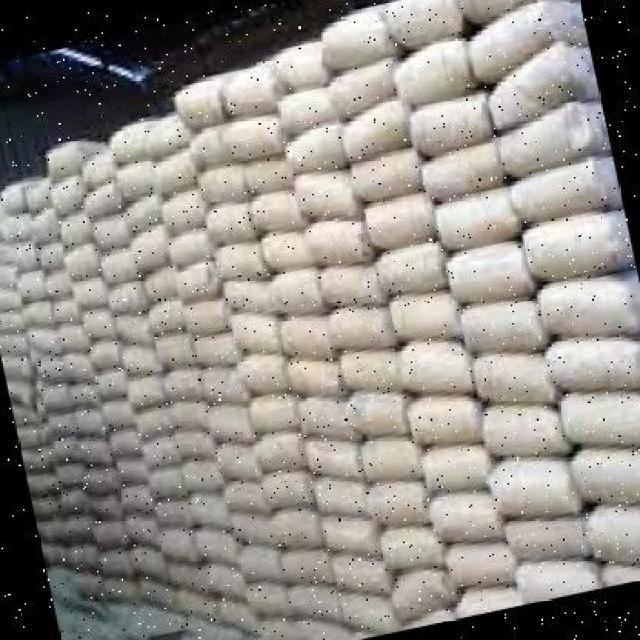gunny_bag: (463, 0, 588, 87), (485, 41, 601, 130), (506, 145, 623, 230), (495, 104, 610, 187), (525, 197, 635, 280), (541, 268, 640, 341), (393, 25, 478, 104), (463, 288, 547, 364), (430, 183, 523, 250), (409, 83, 495, 155), (488, 457, 583, 520), (189, 113, 284, 174), (543, 336, 640, 395), (385, 0, 470, 64), (443, 241, 534, 300), (320, 9, 394, 80), (484, 403, 572, 462), (559, 385, 640, 449), (423, 483, 506, 542), (372, 233, 446, 299), (426, 140, 504, 202), (474, 352, 562, 405), (405, 388, 484, 445), (350, 146, 422, 208), (364, 187, 437, 248), (400, 345, 481, 399), (571, 443, 640, 504), (443, 536, 519, 591), (336, 57, 400, 121), (341, 99, 415, 154), (419, 441, 494, 495), (501, 517, 593, 560), (392, 568, 462, 622), (388, 291, 462, 341), (360, 432, 428, 486), (347, 382, 410, 440), (296, 167, 361, 223), (507, 563, 600, 602), (285, 121, 348, 177), (327, 303, 395, 354), (174, 77, 229, 138), (222, 62, 280, 117), (309, 215, 372, 265), (340, 347, 405, 395), (365, 476, 431, 523), (317, 262, 384, 308), (302, 435, 368, 480), (584, 508, 640, 561), (205, 193, 260, 246), (379, 526, 442, 572), (159, 187, 212, 241), (285, 353, 346, 399), (318, 509, 380, 553), (235, 347, 290, 396), (281, 314, 337, 362), (254, 426, 309, 473), (279, 89, 339, 132), (340, 589, 398, 633), (197, 157, 248, 207), (272, 506, 328, 551), (267, 266, 325, 309), (332, 547, 390, 590), (263, 227, 317, 273), (313, 478, 375, 518), (278, 544, 337, 586), (298, 397, 358, 438), (152, 144, 198, 197), (273, 40, 328, 84), (109, 112, 154, 165), (454, 583, 522, 618), (250, 190, 304, 233), (264, 464, 313, 511), (216, 238, 267, 281), (147, 107, 187, 160), (167, 226, 217, 268), (220, 275, 272, 315), (236, 541, 281, 587), (250, 390, 300, 431), (215, 597, 263, 639), (131, 223, 171, 271), (99, 237, 139, 285), (164, 558, 212, 598), (290, 585, 339, 624), (246, 158, 293, 198), (145, 293, 188, 336), (46, 171, 87, 216), (200, 361, 247, 400), (229, 508, 277, 546), (176, 258, 218, 301), (194, 523, 238, 564), (245, 583, 295, 619), (235, 311, 283, 348), (96, 567, 139, 608), (185, 297, 232, 334), (188, 495, 235, 532), (208, 406, 251, 446), (83, 179, 127, 217), (189, 327, 234, 364), (42, 139, 83, 179), (164, 363, 204, 404), (218, 440, 258, 480), (226, 473, 266, 513), (169, 589, 217, 622), (127, 373, 168, 410), (77, 148, 115, 187), (203, 558, 243, 595), (90, 214, 131, 250), (134, 403, 175, 439), (92, 394, 136, 427), (136, 573, 174, 611), (56, 207, 93, 246), (124, 193, 160, 233), (72, 272, 110, 309), (172, 395, 211, 431), (180, 458, 221, 492), (118, 342, 161, 374), (156, 330, 194, 365), (93, 365, 132, 399), (149, 467, 189, 500), (25, 317, 56, 359), (108, 280, 145, 315), (62, 243, 100, 277), (113, 312, 151, 346), (55, 351, 94, 384), (36, 410, 76, 442), (33, 200, 61, 245), (99, 545, 135, 580), (162, 527, 196, 564), (27, 347, 61, 383), (77, 433, 114, 466), (298, 613, 343, 640), (174, 428, 214, 458), (125, 510, 159, 545), (32, 382, 69, 414), (129, 544, 160, 582), (117, 166, 154, 197), (90, 520, 129, 549), (140, 432, 176, 463), (109, 426, 142, 459), (119, 485, 153, 517), (86, 490, 120, 522), (44, 560, 69, 603), (18, 265, 47, 301), (79, 306, 111, 338), (5, 236, 36, 269), (0, 203, 30, 237), (19, 442, 47, 478), (158, 500, 190, 531), (22, 298, 55, 328), (67, 542, 96, 576), (29, 491, 58, 525), (25, 176, 52, 212), (69, 574, 100, 605), (15, 421, 45, 453), (139, 271, 174, 298), (602, 562, 640, 586), (74, 407, 105, 436), (62, 512, 93, 541), (56, 324, 88, 352), (84, 465, 116, 493), (0, 179, 27, 212), (0, 353, 30, 382), (116, 457, 145, 486), (44, 266, 72, 296), (56, 484, 84, 514), (69, 383, 100, 410), (5, 379, 32, 410), (261, 618, 299, 640), (49, 437, 79, 463), (50, 300, 78, 327), (0, 333, 29, 359), (35, 238, 61, 265), (94, 341, 120, 368), (56, 464, 83, 490), (36, 521, 61, 546), (40, 541, 64, 567), (25, 473, 52, 496), (10, 403, 36, 426), (0, 285, 21, 307), (0, 312, 24, 330), (0, 237, 12, 269), (0, 262, 14, 289)
